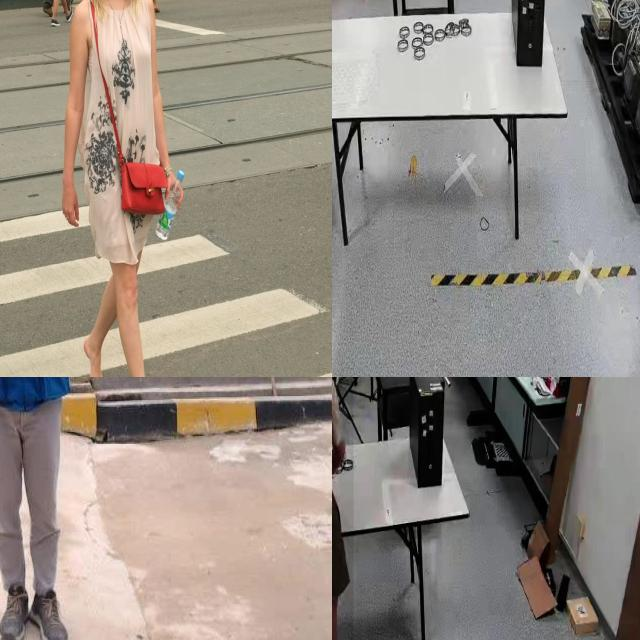Barefoots: (83, 335, 107, 377)
boots: (30, 591, 71, 640), (0, 586, 30, 640)
person: (0, 377, 214, 640)
